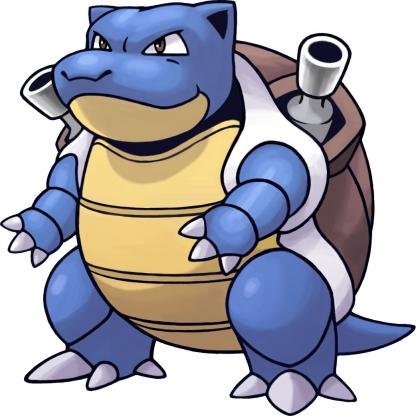Blastoise: (10, 8, 416, 416)
